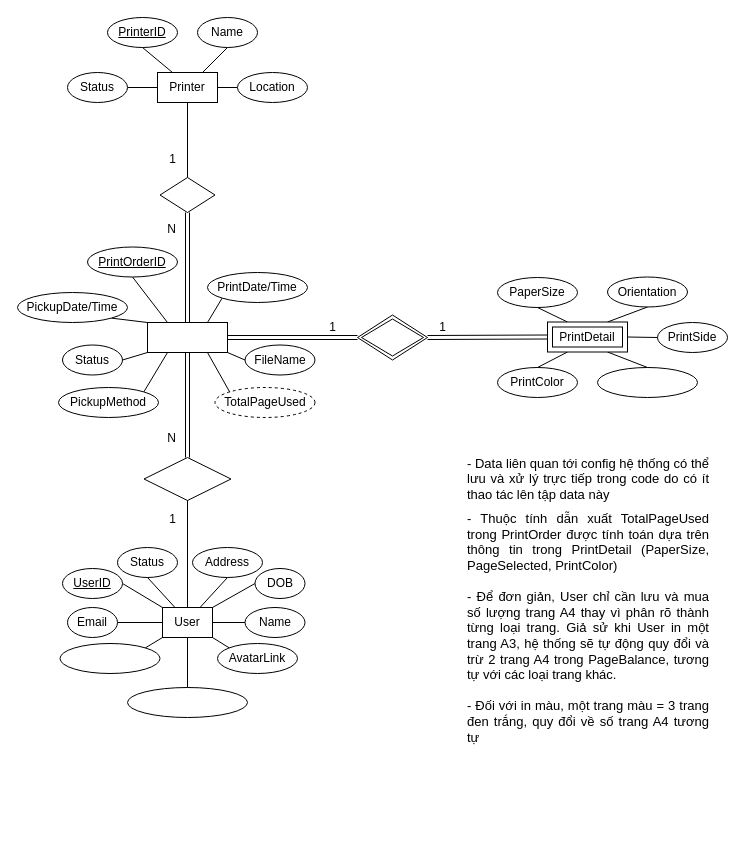
This 745x845 diagram has some shape labels left out. The shapes that lost their labels are listed below. From the top down, each one's centre as x and y in pixels, then its label:
At point 187,194: "In".
At point 187,337: "PrintOrder".
At point 392,337: "Has".
At point 647,382: "PageSelected".
At point 187,478: "Made by".
At point 109,658: "Page balance".
At point 187,702: "HashedPassword".
